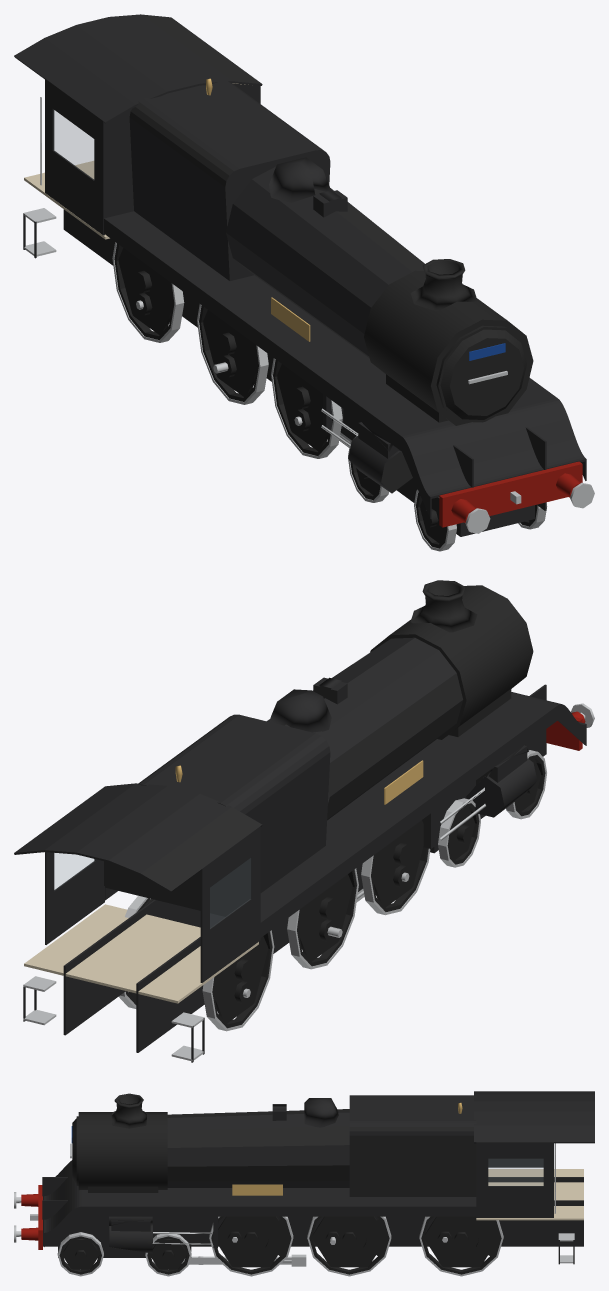
The model's file is engine_lod2.glb.
The picture shows the model from 3 angles, top to bottom: view 1: azimuth 30°, elevation 25°; view 2: azimuth 150°, elevation 25°; view 3: azimuth 270°, elevation 25°; orthographic projection. The views are drawn at different scales.
Visible parts, largest first — view 1: engine_static_paint_black, engine_static_smokebox, engine_static_paint_red, ws_trail_wheel, ws_drive_wheel, ws_lead_wheel, engine_static_steel, engine_static_glass, ws_bogieFront_wheel, bogie_frame_paint_black, ws_drive_steel, ws_trail_steel (+4 smaller); view 2: engine_static_paint_black, engine_static_smokebox, engine_static_cab_inside, ws_drive_wheel, ws_trail_wheel, ws_lead_wheel, engine_static_glass, engine_static_steel, ws_bogieRear_wheel, ws_trail_steel, ws_drive_steel, ws_lead_steel (+4 smaller); view 3: engine_static_paint_black, engine_static_smokebox, ws_drive_wheel, ws_trail_wheel, ws_lead_wheel, engine_static_cab_inside, engine_static_glass, ws_bogieFront_wheel, ws_bogieRear_wheel, engine_static_steel, engine_static_paint_red, engine_static_brass (+7 smaller).
Boxes of the visible parts, box(x1,y1,x2,y2) form: engine_static_paint_black: box(14, 14, 586, 518); engine_static_smokebox: box(364, 259, 533, 425); engine_static_paint_red: box(439, 461, 582, 527); ws_trail_wheel: box(114, 243, 174, 339); ws_drive_wheel: box(199, 305, 258, 401); ws_lead_wheel: box(273, 359, 332, 455); engine_static_steel: box(23, 97, 594, 533); engine_static_glass: box(53, 110, 93, 179); ws_bogieFront_wheel: box(416, 492, 537, 548); bogie_frame_paint_black: box(397, 482, 534, 536); ws_drive_steel: box(197, 304, 268, 404); ws_trail_steel: box(112, 242, 184, 342); engine_static_paint_black: box(14, 637, 586, 1062); engine_static_smokebox: box(370, 580, 533, 739); engine_static_cab_inside: box(24, 852, 258, 1003); ws_drive_wheel: box(297, 870, 356, 966); ws_trail_wheel: box(125, 898, 272, 1028); ws_lead_wheel: box(371, 820, 428, 911); engine_static_glass: box(54, 853, 250, 928); engine_static_steel: box(23, 703, 594, 1061); ws_bogieRear_wheel: box(447, 803, 478, 864); ws_trail_steel: box(118, 895, 274, 1031); ws_drive_steel: box(287, 868, 358, 969); ws_lead_steel: box(361, 848, 430, 915); engine_static_paint_black: box(42, 1091, 594, 1264); engine_static_smokebox: box(72, 1093, 167, 1192); ws_drive_wheel: box(309, 1216, 389, 1274); ws_trail_wheel: box(421, 1216, 501, 1274); ws_lead_wheel: box(211, 1216, 291, 1274); engine_static_cab_inside: box(476, 1169, 583, 1220); engine_static_glass: box(488, 1159, 543, 1185); ws_bogieFront_wheel: box(59, 1236, 101, 1274); ws_bogieRear_wheel: box(147, 1236, 189, 1274); engine_static_steel: box(14, 1143, 574, 1263); engine_static_paint_red: box(21, 1185, 42, 1249); engine_static_brass: box(232, 1102, 462, 1195).
Bounding box in the file's own units: 2.82 × 4.01 × 12.64.
